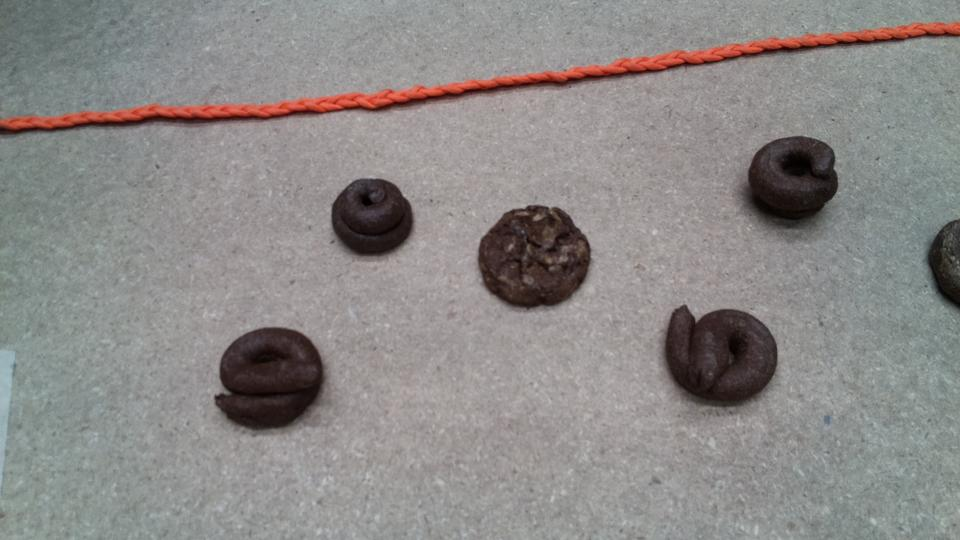poop: (473, 200, 594, 319), (663, 296, 785, 409), (212, 323, 327, 436), (745, 133, 842, 230), (330, 174, 415, 260)
rope: (4, 100, 318, 139), (634, 37, 860, 75), (454, 59, 649, 99), (773, 23, 960, 58), (303, 84, 482, 120)
